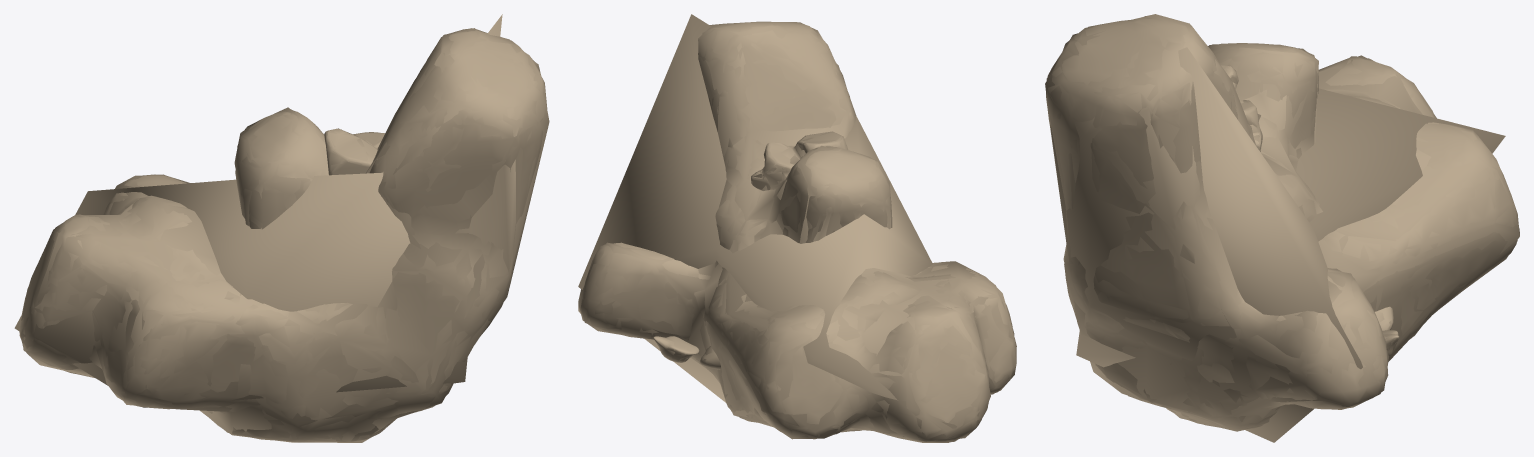
The model's file is Rocks.fbx.
3 views of the same model, side by side, from view 1: azimuth 30°, elevation 25°; view 2: azimuth 150°, elevation 25°; view 3: azimuth 270°, elevation 25° (orthographic). The views are drawn at different scales.
Visible parts, largest first — view 1: RockB, RockB 1, RockB 2, RockB 3, RockA; view 2: RockB, RockB 3, RockB 1, RockB 2, RockA, RockA 1, RockSC, RockA 2; view 3: RockB, RockB 1, RockB 3, RockB 2, RockA.
Boxes of the visible parts, bbox=[...] form: RockB: bbox=[21, 28, 546, 442]; RockB 1: bbox=[19, 28, 547, 442]; RockB 2: bbox=[19, 28, 549, 442]; RockB 3: bbox=[14, 14, 502, 407]; RockA: bbox=[324, 128, 384, 174]; RockB: bbox=[578, 21, 1016, 442]; RockB 3: bbox=[578, 14, 956, 428]; RockB 1: bbox=[578, 22, 1016, 442]; RockB 2: bbox=[580, 22, 1014, 441]; RockA: bbox=[751, 132, 846, 190]; RockA 1: bbox=[751, 133, 848, 190]; RockSC: bbox=[653, 336, 699, 362]; RockA 2: bbox=[751, 131, 843, 189]; RockB: bbox=[1046, 16, 1519, 429]; RockB 1: bbox=[1046, 15, 1519, 429]; RockB 3: bbox=[1076, 47, 1505, 442]; RockB 2: bbox=[1045, 14, 1519, 431]; RockA: bbox=[1220, 65, 1262, 151].
Size of the model in its own units: 32.38 by 26.55 by 25.63.
